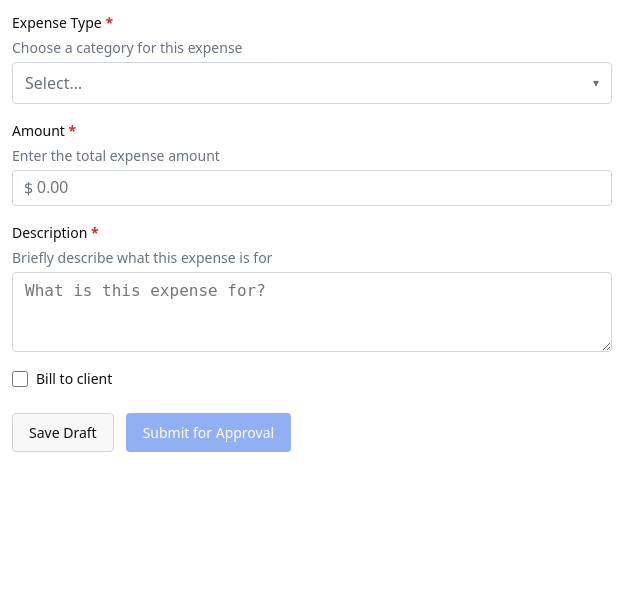
Test case: RequestForm › shows Other reason field when type is Other
Click the button named "expense type" at (54, 83), box 12,62 -> 612,104
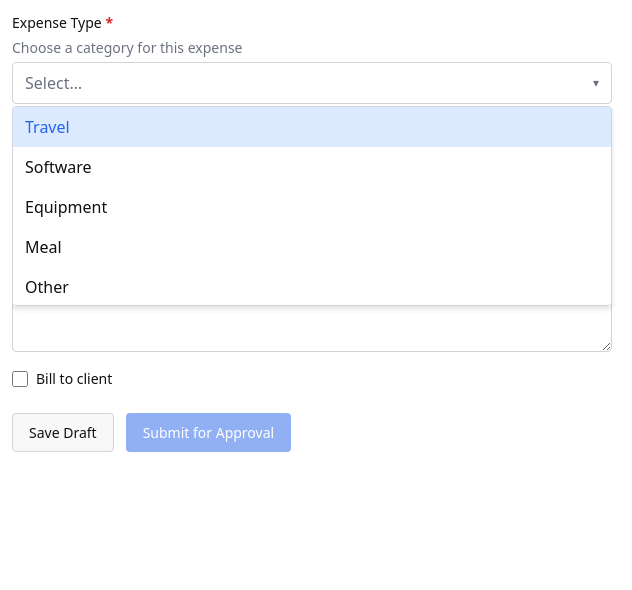
Click the option "Other" at (47, 287), box 25,276 -> 69,298
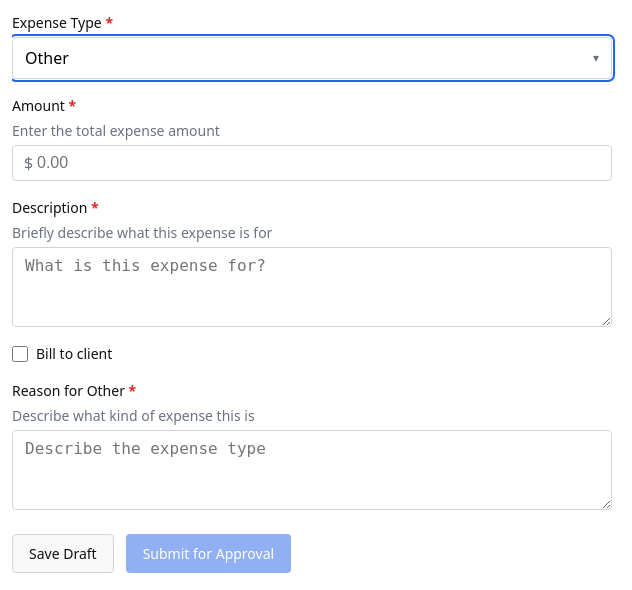
Now the text box labelled "Reason for Other *" is shown, box 12,430 -> 612,510
